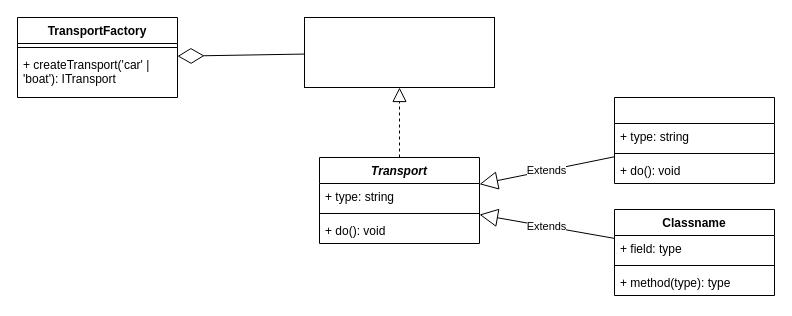
Image size: 792x316. Some labels were removed from this diagram. The box of each missing label's shape, as (x1, y1, x2, y2) in pixels:
<<Interface>> ITransport + do(): void: (304, 16, 494, 88)
Car: (614, 96, 774, 184)
